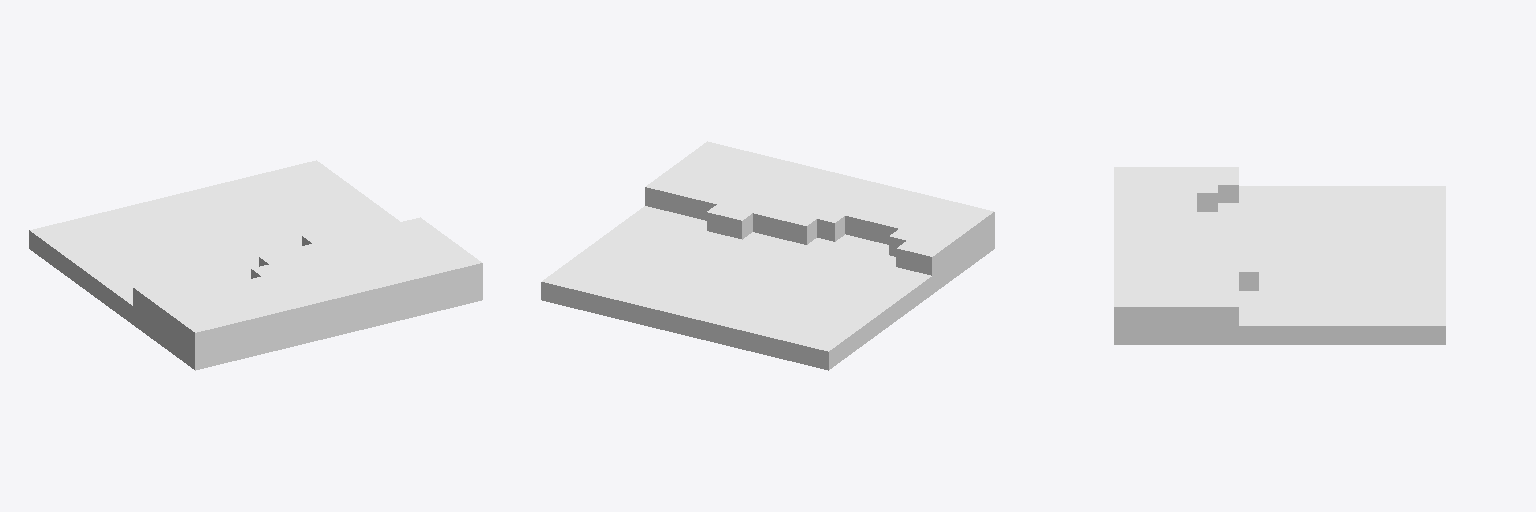
The model's file is Lake_1.obj.
3 views of the same model, side by side, from view 1: azimuth 30°, elevation 25°; view 2: azimuth 150°, elevation 25°; view 3: azimuth 270°, elevation 25° (orthographic).
Parts seen in each view (by area): view 1: object 1; view 2: object 1; view 3: object 1.
Part boxes in pixels (x1,y1,x2,y2): object 1: (29, 160, 482, 370); object 1: (541, 141, 994, 370); object 1: (1114, 167, 1445, 344).
Size of the model in its own units: 1.6 by 0.2 by 1.6.